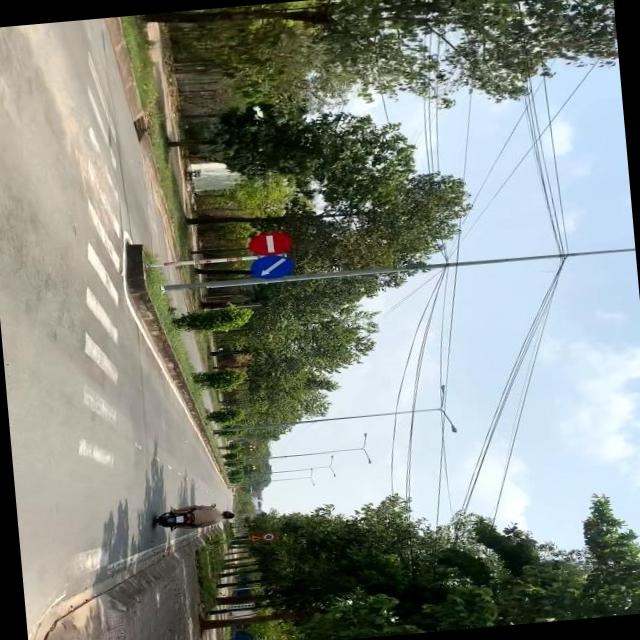P-102: (246, 230, 290, 258)
R-302a: (248, 251, 290, 281)
